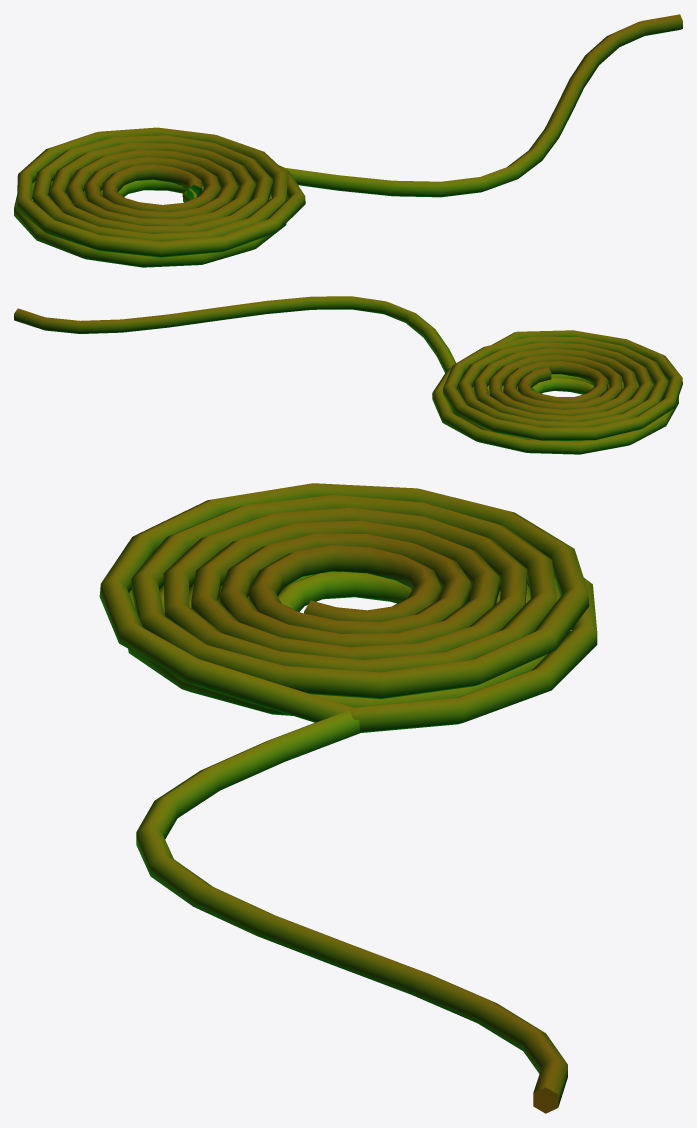
File: rope_coil.glb
The picture shows the model from 3 angles, top to bottom: view 1: azimuth 30°, elevation 25°; view 2: azimuth 150°, elevation 25°; view 3: azimuth 270°, elevation 25°; orthographic projection. The views are drawn at different scales.
Visible parts, largest first — view 1: rope_coil; view 2: rope_coil; view 3: rope_coil.
Boxes of the visible parts, x1,y1,x2,y2 form: rope_coil: [14, 14, 682, 267]; rope_coil: [14, 296, 682, 454]; rope_coil: [99, 483, 597, 1113].
Size of what is drawn, in the model's own units: 1.7 by 0.0724 by 0.6118.
